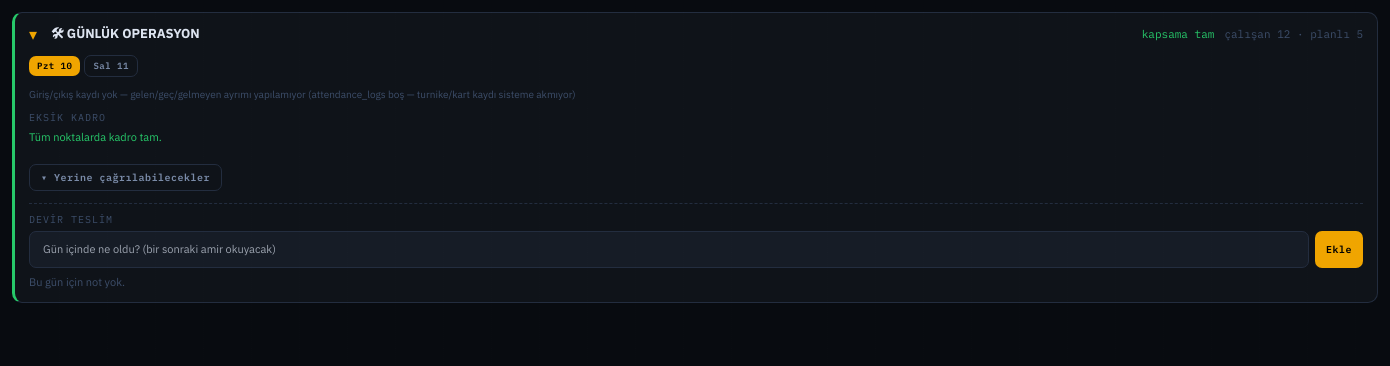
Günlük operasyon paneli › yerine çağrılabilecekleri istendiğinde getirir
The image size is (1390, 366).
Click the button "▾ Yerine çağrılabilecekler": (126, 178) x1=29 y1=164 x2=222 y2=191
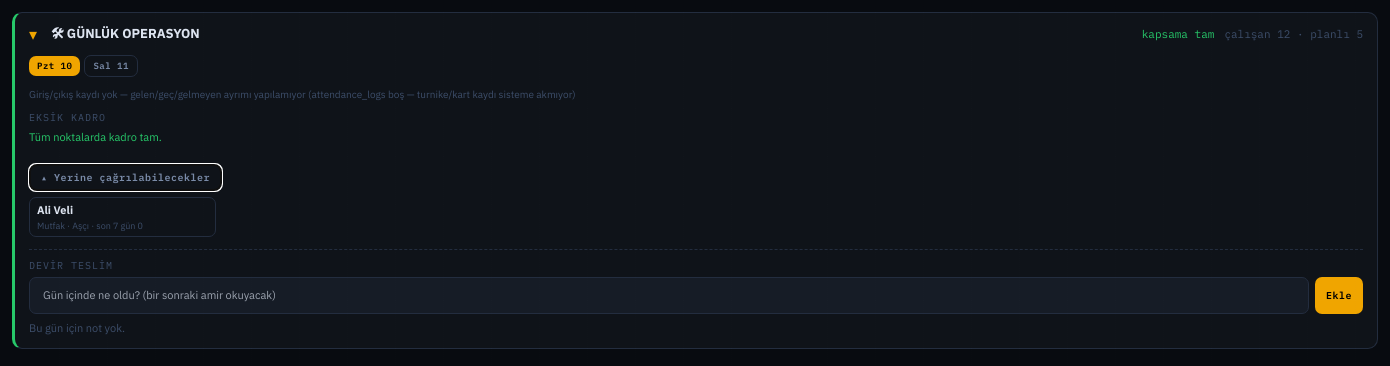
Expected: the text "Ali Veli" is shown, x1=37 y1=203 x2=73 y2=217
Expected: the text "Mutfak · Aşçı · son 7 gün 0" is shown, x1=37 y1=220 x2=143 y2=230
